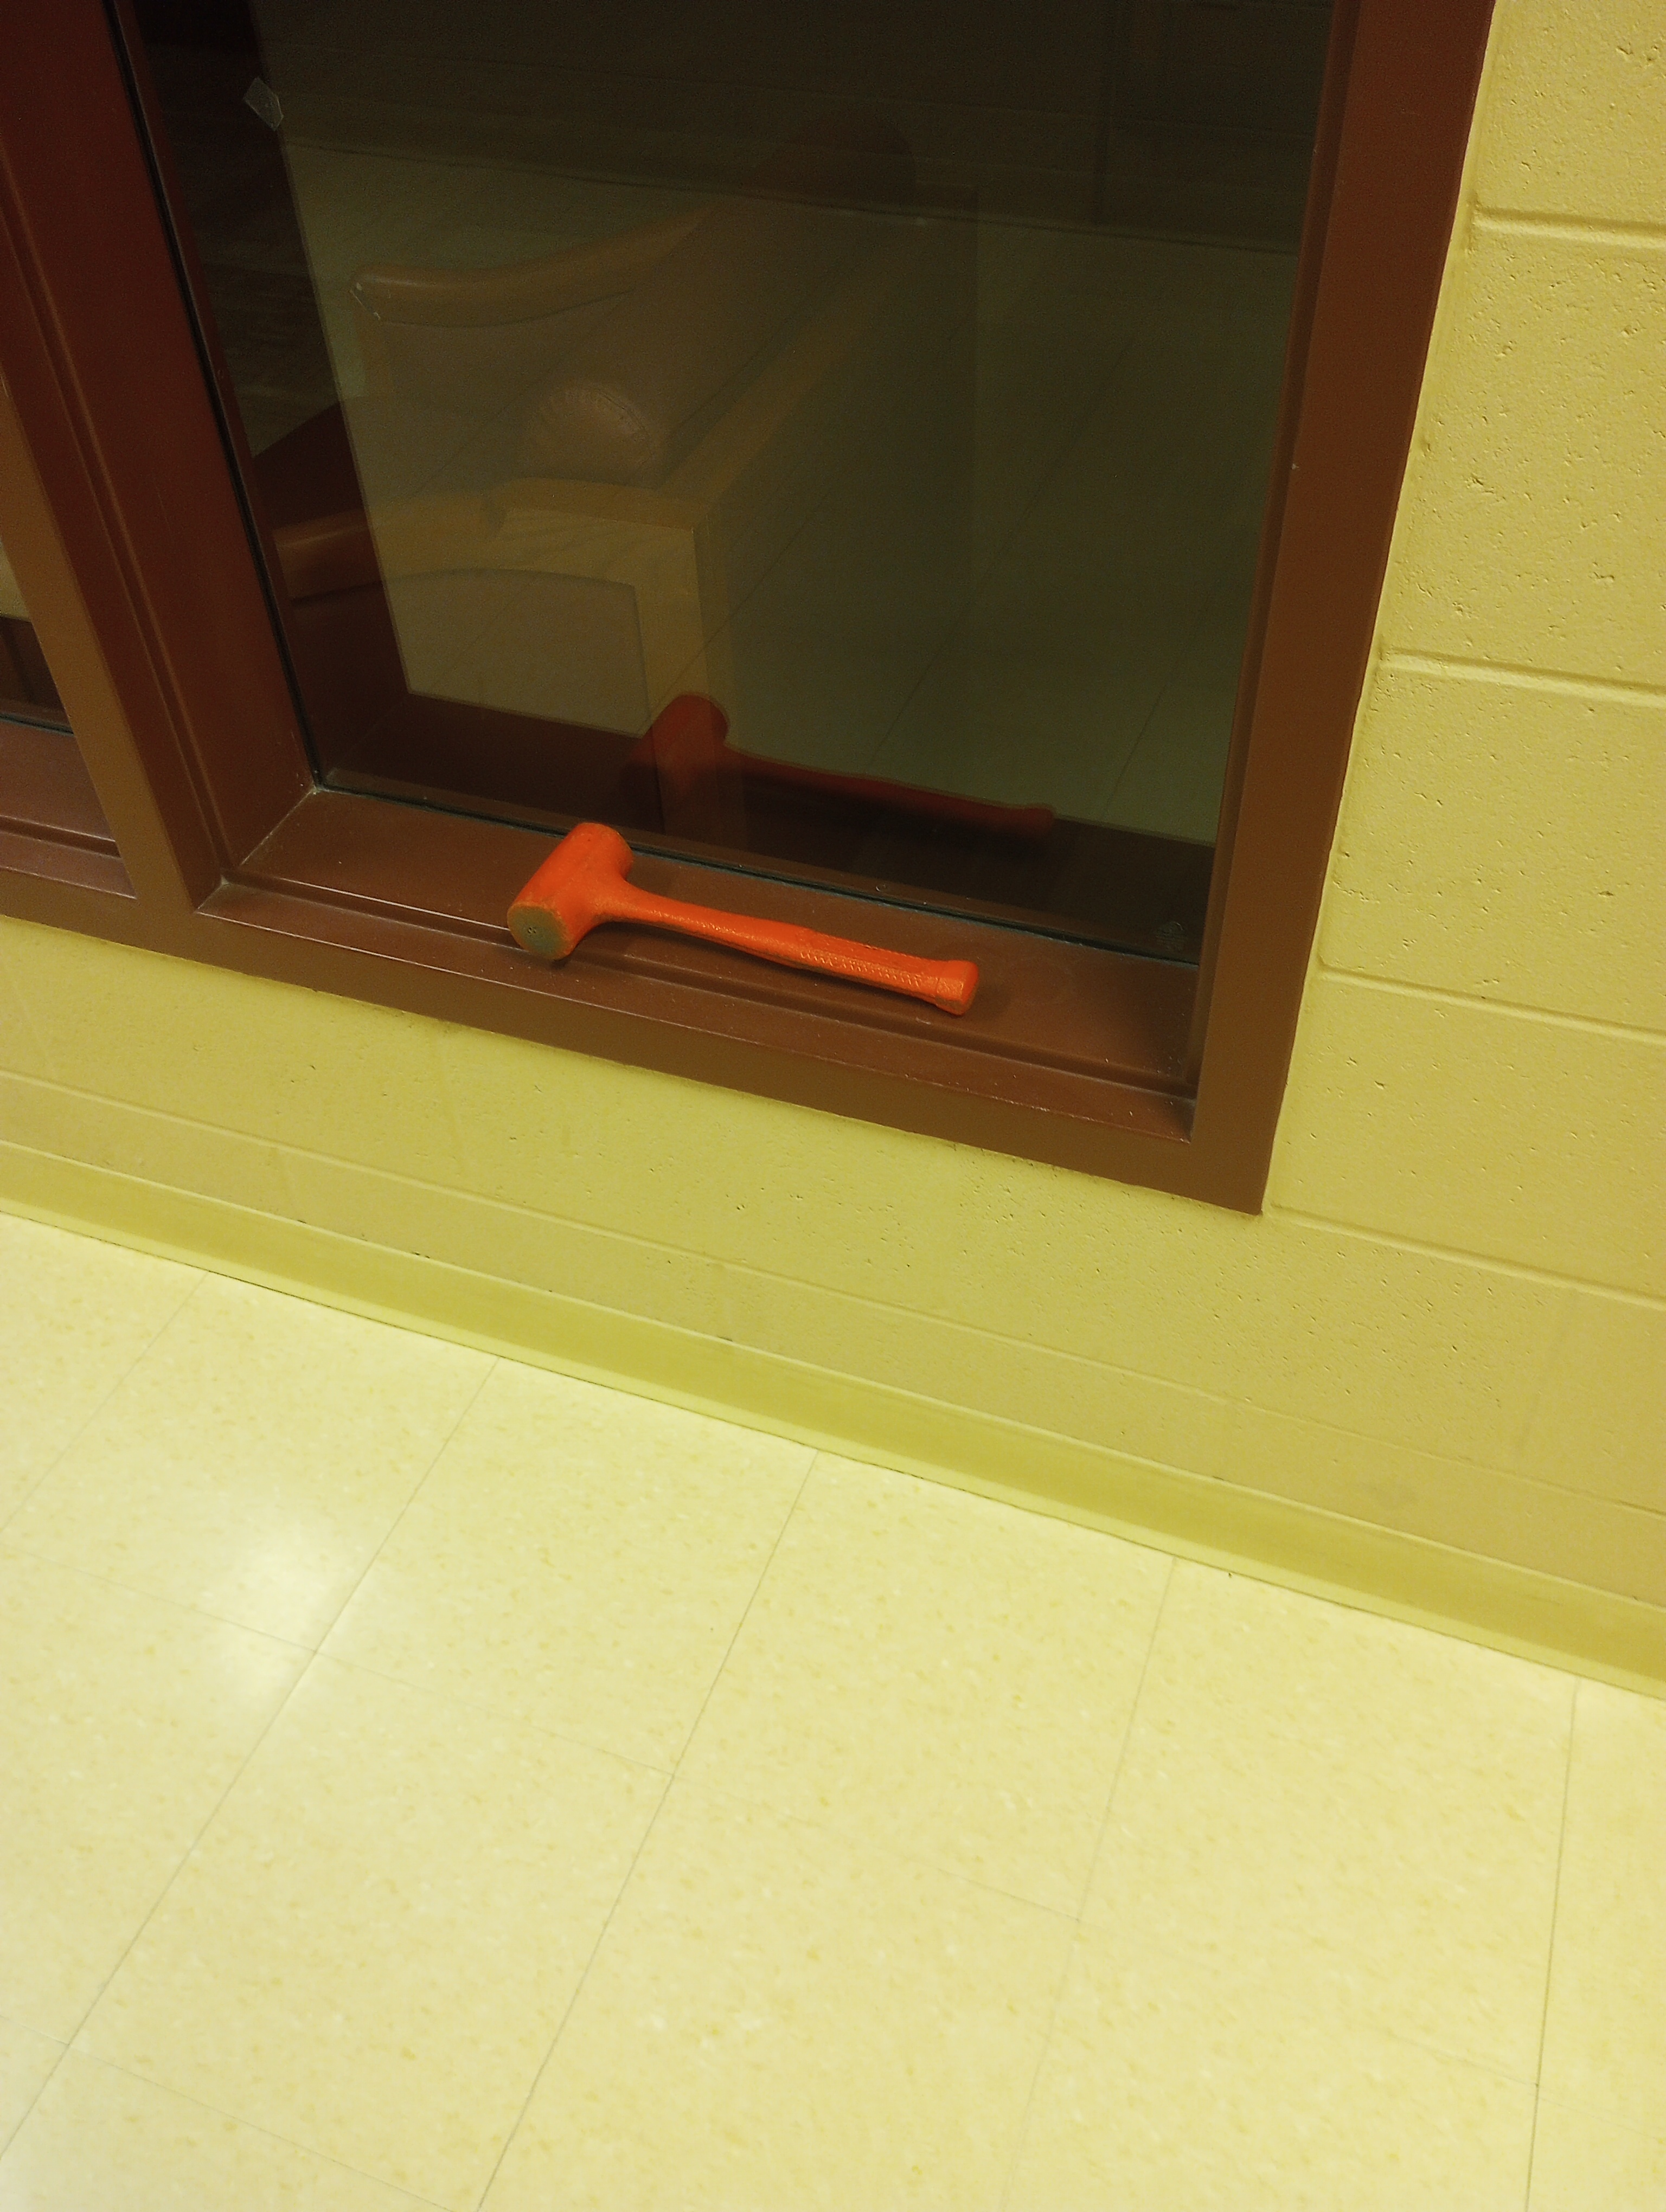bottle: (497, 796, 984, 1032)
